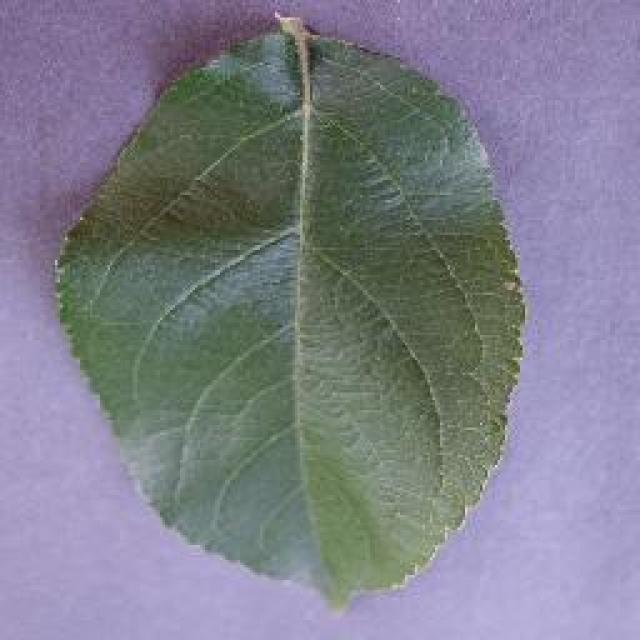apple healthy: (50, 10, 528, 612)
